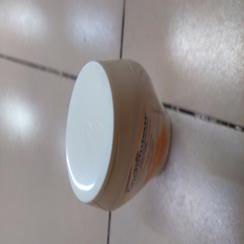enchanter: (65, 57, 177, 217)
